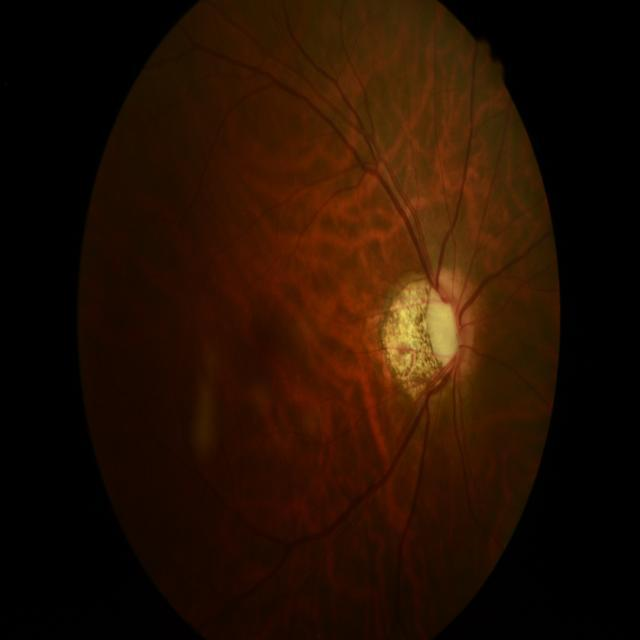cup: (430, 284, 462, 372)
disk: (427, 273, 474, 378)
